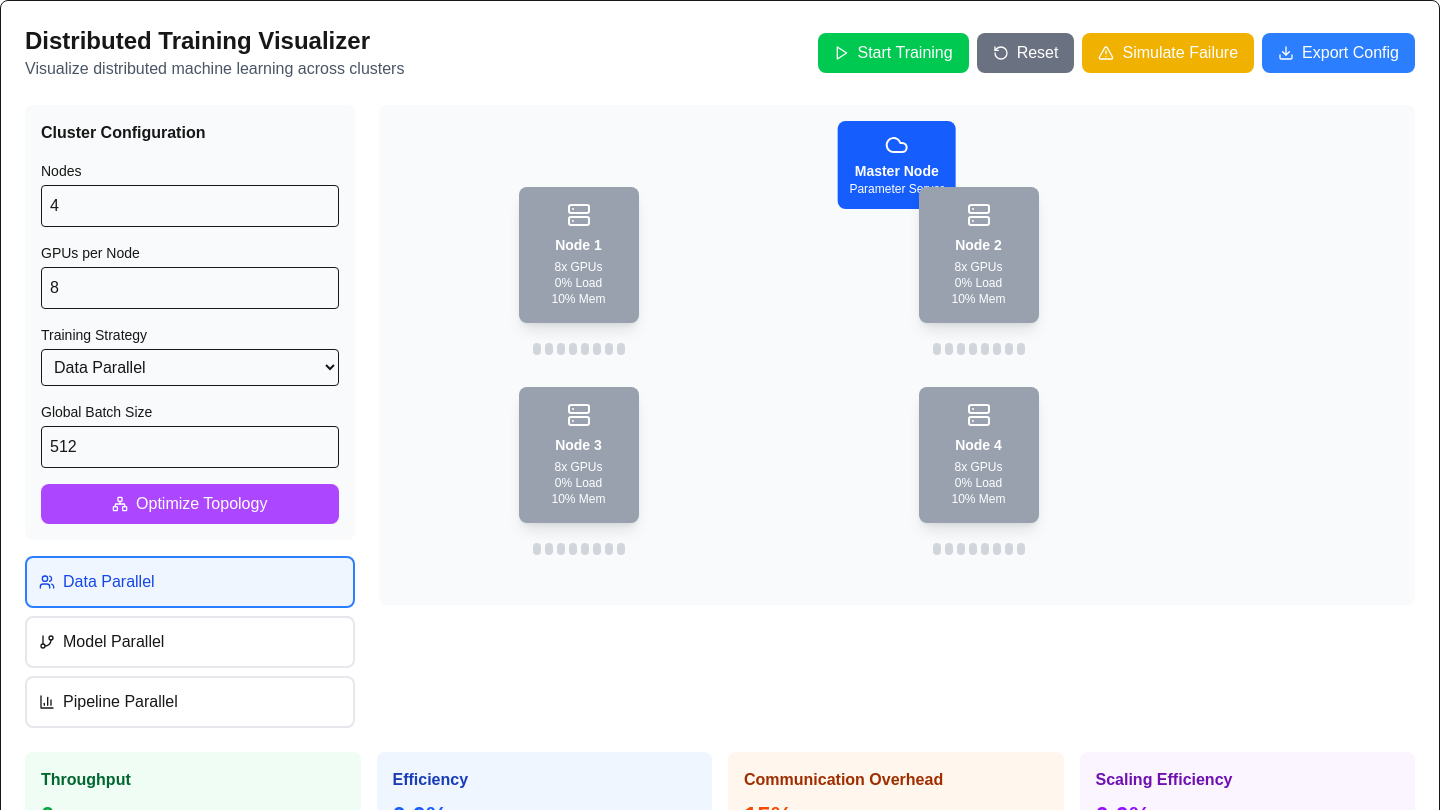
Scenario: DistributedTrainingVisualizer › allows exporting training configuration
Click the button "Export Config": (1339, 53) left=1262, top=33, right=1415, bottom=73
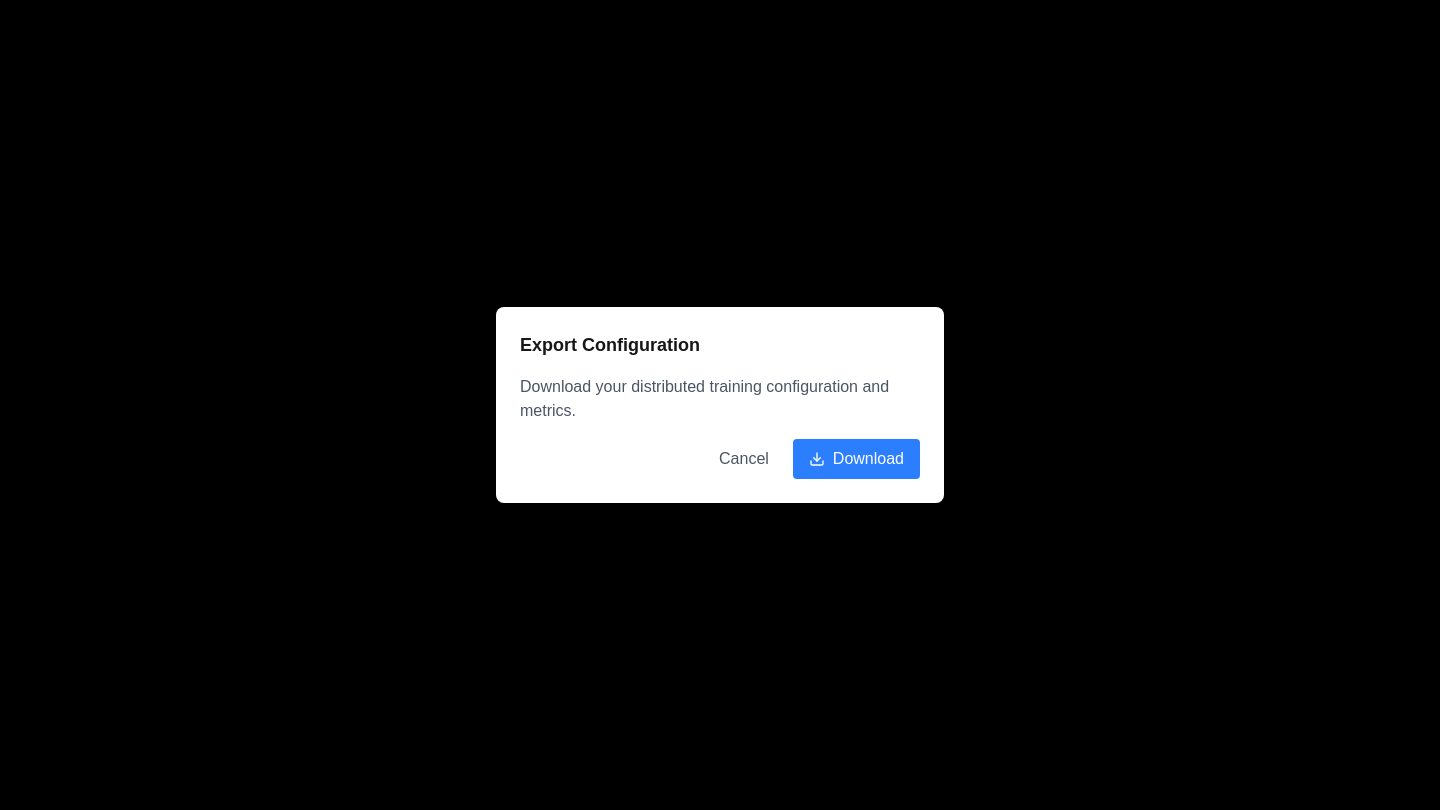
expect the element with test id "export-modal" is shown: met
